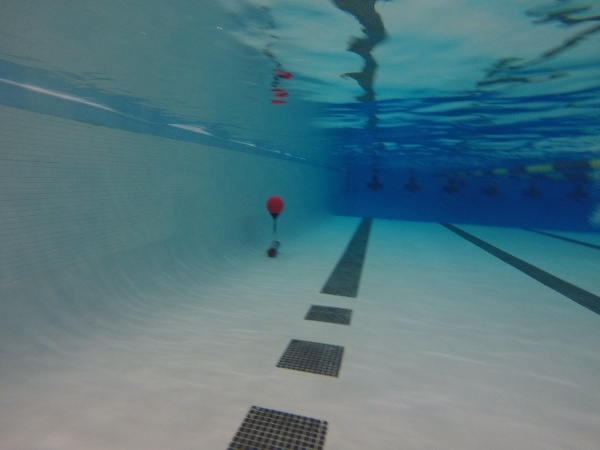buoy_red: (264, 193, 286, 221)
